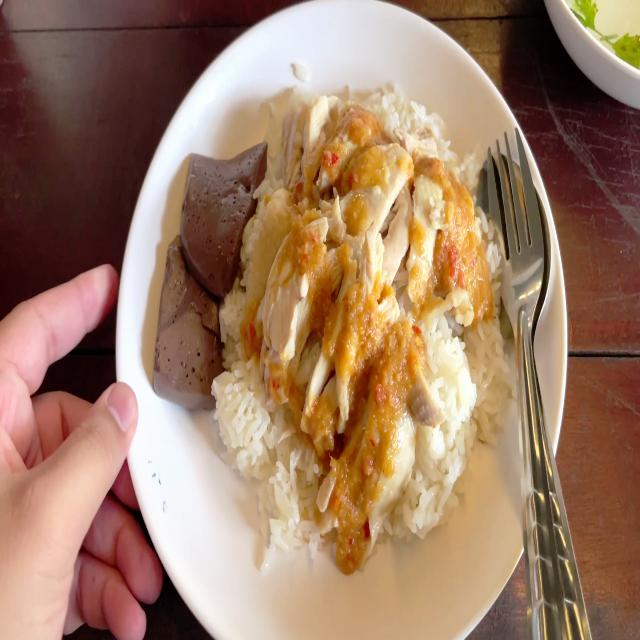boiled_chicken: (262, 95, 449, 504)
boiled_chicken_blood_jelly: (153, 237, 229, 424), (176, 140, 260, 302)
chicken_rice: (146, 62, 521, 555)
